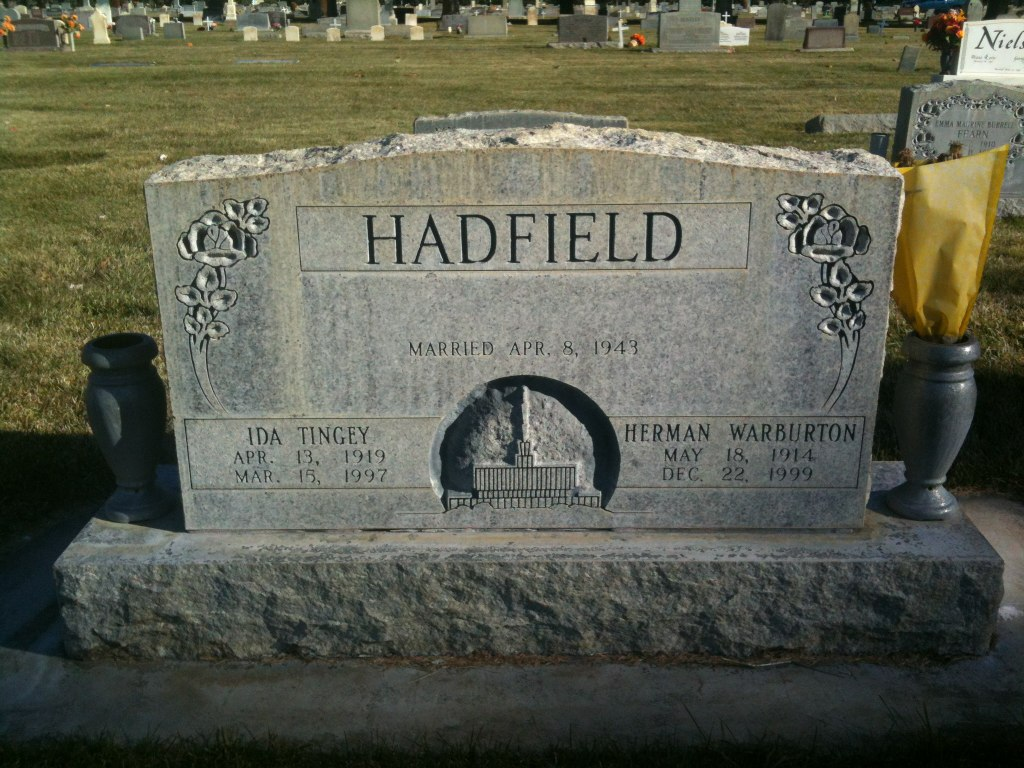upright: (142, 112, 901, 530)
